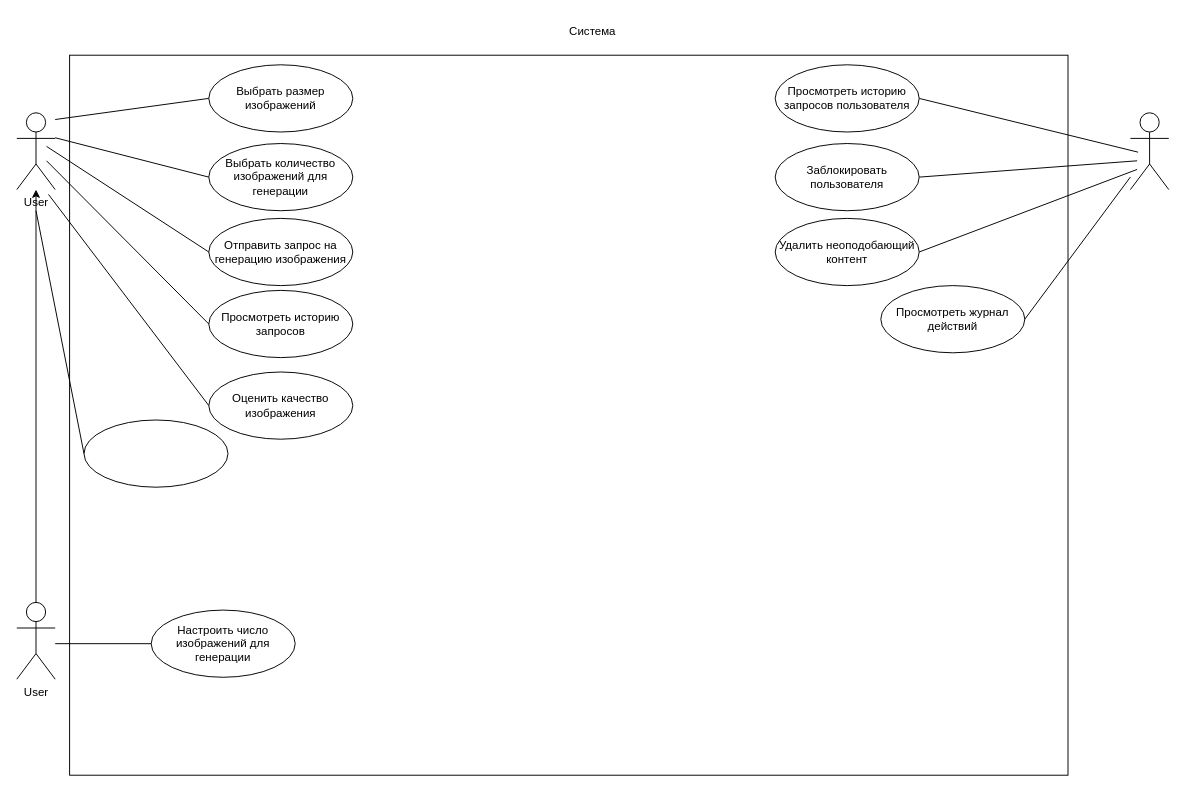
This 1186x792 diagram has some shape labels left out. The shapes that lost their labels are listed below. From the top down, each one's centre as x and y in pixels, then its label:
At pixel 1149 151: "Admin".
At pixel 155 453: "Сохранить изображение".
